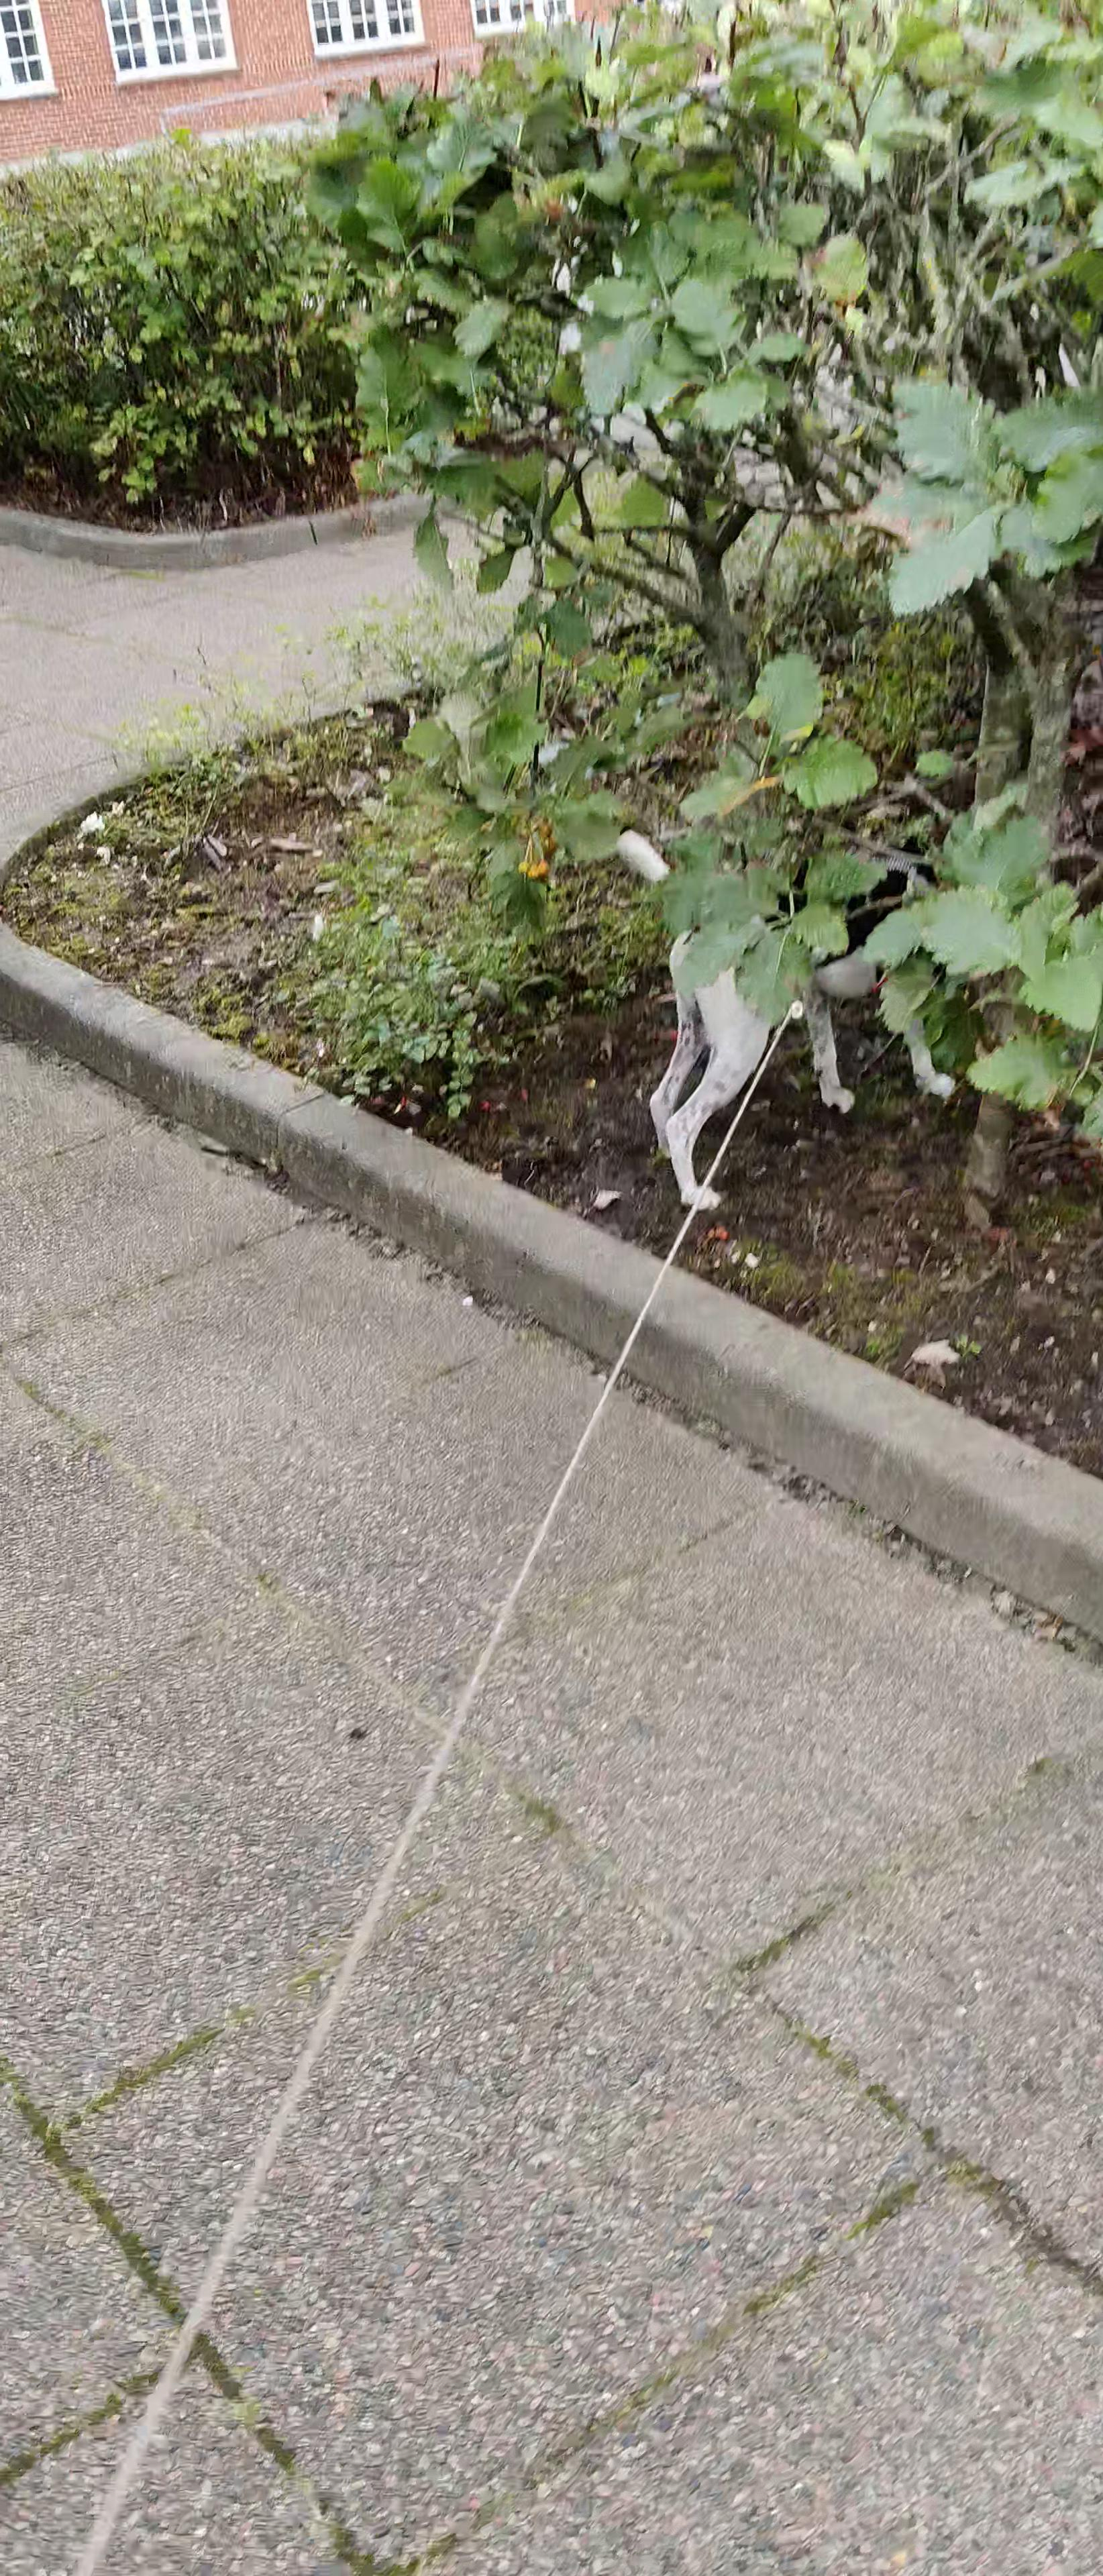Dog: (613, 823, 973, 1204)
